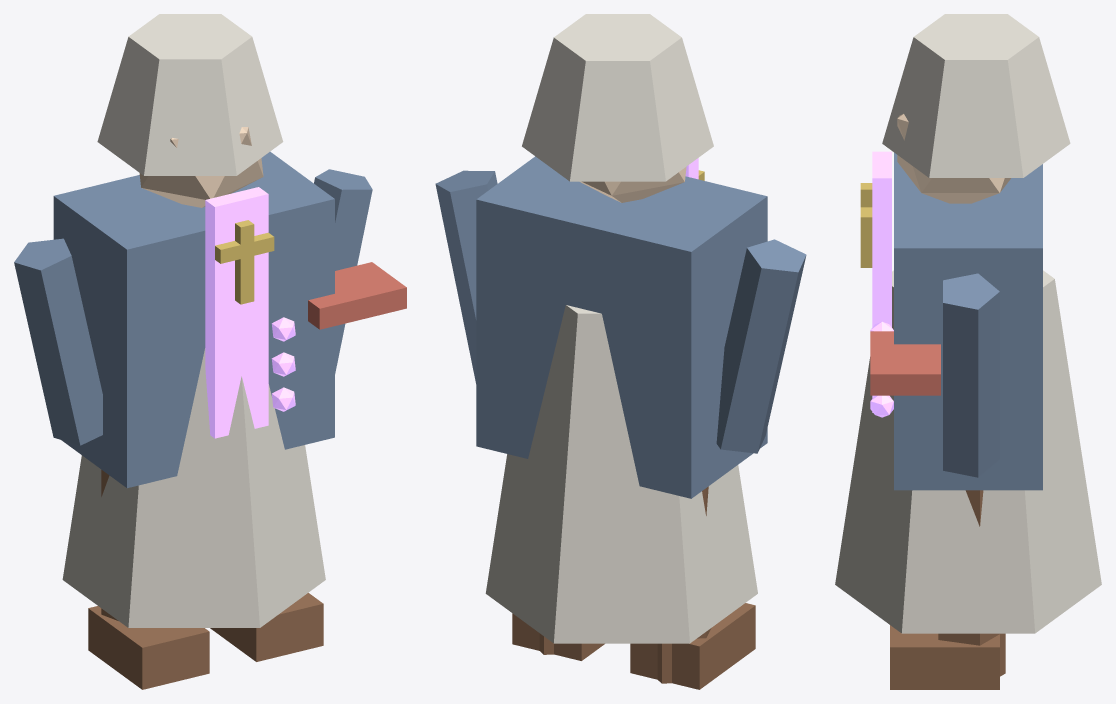
The model's file is npc_priest.glb.
3 renders of one model, left to right at view 1: azimuth 30°, elevation 25°; view 2: azimuth 150°, elevation 25°; view 3: azimuth 270°, elevation 25°, orthographic. The views are drawn at different scales.
Parts seen in each view (by area): view 1: torso.001, robe.001, hood.001, stole, arm_0.001, boot_0.001, book, boot_1.001, arm_1.001, head.001, cross_v, cross_h; view 2: torso.001, robe.001, hood.001, arm_0.001, boot_0.001, arm_1.001, head.001, boot_1.001, leg_0.002; view 3: robe.001, torso.001, hood.001, arm_1.001, boot_1.001, book, stole, head.001, leg_1.002, cross_v, bead_0.
Part boxes in pixels (x1,y1,x2,y2): torso.001: (53, 151, 334, 488); robe.001: (62, 348, 325, 627); hood.001: (97, 14, 283, 175); stole: (205, 187, 268, 438); arm_0.001: (14, 238, 102, 445); boot_0.001: (88, 606, 209, 689); book: (308, 262, 406, 329); boot_1.001: (210, 593, 323, 661); arm_1.001: (314, 169, 372, 373); head.001: (139, 127, 263, 207); cross_v: (235, 220, 254, 304); cross_h: (215, 232, 274, 263); torso.001: (476, 156, 767, 498); robe.001: (485, 305, 757, 643); hood.001: (522, 14, 713, 181); arm_0.001: (716, 239, 806, 453); boot_0.001: (630, 603, 755, 689); arm_1.001: (435, 170, 497, 383); head.001: (580, 166, 686, 202); boot_1.001: (512, 613, 604, 660); leg_0.002: (657, 486, 711, 683); robe.001: (835, 270, 1101, 633); torso.001: (894, 152, 1042, 490); hood.001: (882, 14, 1070, 177); arm_1.001: (943, 273, 999, 477); boot_1.001: (890, 625, 999, 689); book: (870, 331, 940, 395); stole: (872, 151, 891, 412); head.001: (897, 114, 1010, 203); leg_1.002: (938, 490, 1005, 676); cross_v: (860, 183, 872, 267); bead_0: (870, 395, 893, 417).
Bounding box in the file's own units: 1.05 × 1.71 × 0.68.
